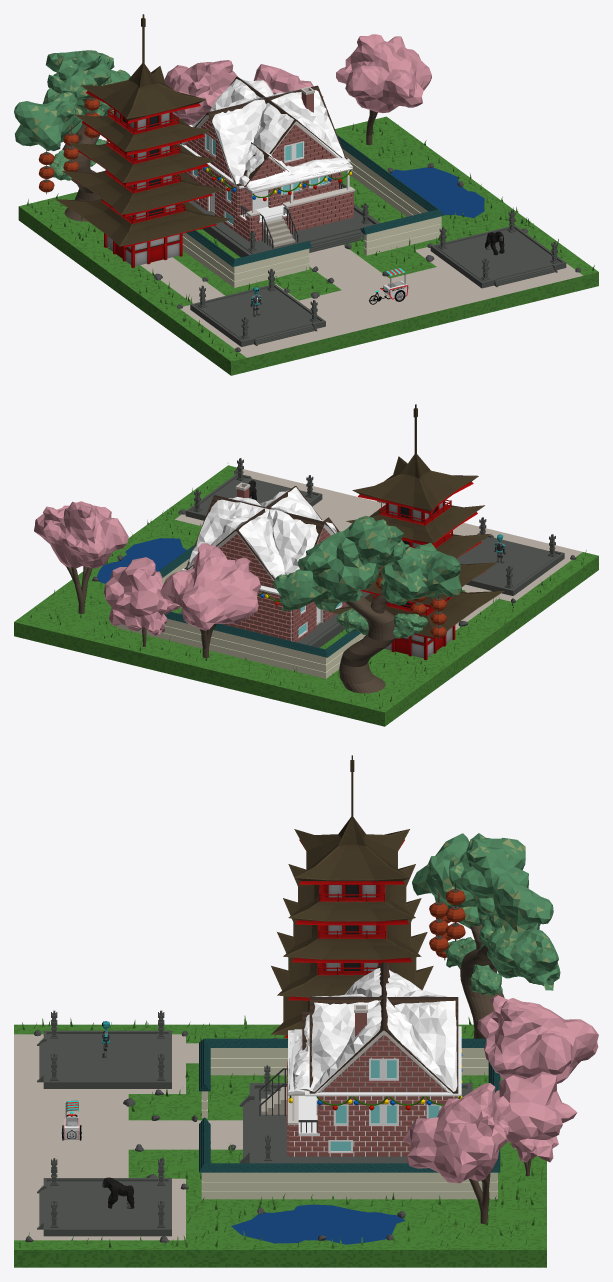
The picture shows the model from 3 angles, top to bottom: view 1: azimuth 30°, elevation 25°; view 2: azimuth 150°, elevation 25°; view 3: azimuth 270°, elevation 25°; orthographic projection. The views are drawn at different scales.
Parts seen in each view (by area): view 1: Cube.005, Cube.1419, VEHICLES_SNOWBAL_BIKE; view 2: Cube.005, Cube.1419; view 3: Cube.005, Cube.1419.
Boxes of the visible parts, bbox=[...] form: Cube.005: bbox=[14, 14, 598, 375]; Cube.1419: bbox=[179, 76, 355, 248]; VEHICLES_SNOWBAL_BIKE: bbox=[369, 268, 408, 304]; Cube.005: bbox=[14, 404, 598, 726]; Cube.1419: bbox=[181, 482, 347, 642]; Cube.005: bbox=[14, 755, 598, 1267]; Cube.1419: bbox=[259, 961, 462, 1156].
Size of the model in its own units: 4528 by 2713 by 4389.
46 materials, 6 textured.
